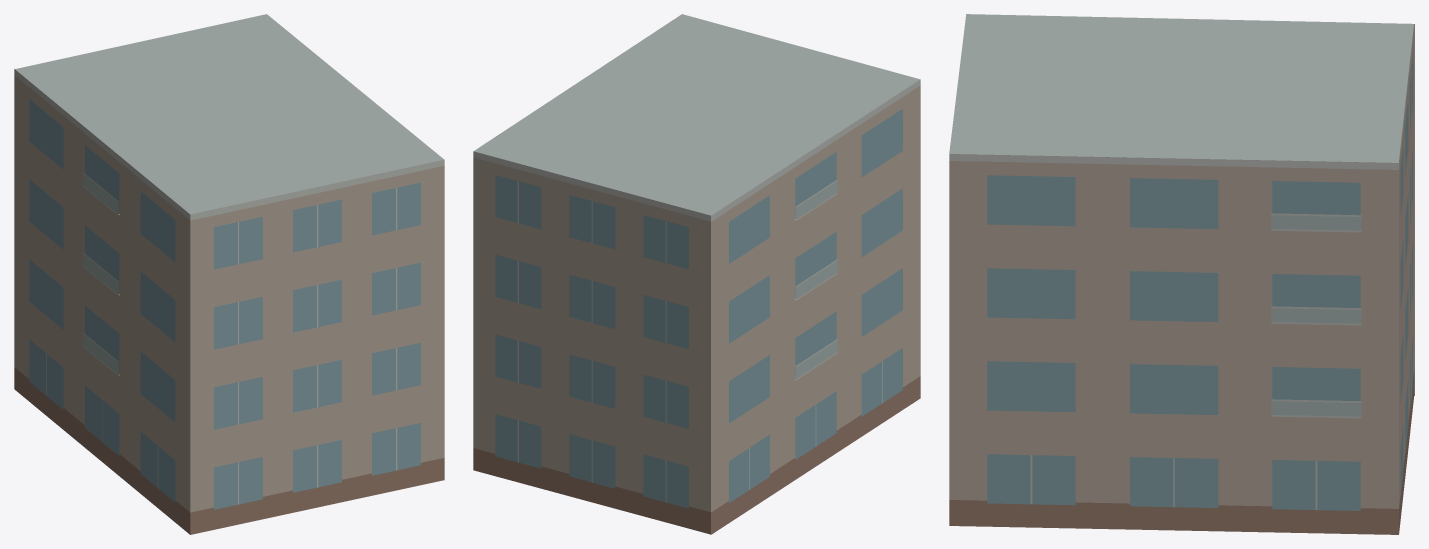
File: survey-upis-32707618.glb
The picture shows the model from 3 angles, left to right: view 1: azimuth 30°, elevation 25°; view 2: azimuth 150°, elevation 25°; view 3: azimuth 270°, elevation 25°; orthographic projection. The views are drawn at different scales.
Visible parts, largest first — view 1: survey-upis-32707618.tmp; view 2: survey-upis-32707618.tmp; view 3: survey-upis-32707618.tmp.
Part boxes in pixels (x1,y1,x2,y2): survey-upis-32707618.tmp: (14,14,444,534); survey-upis-32707618.tmp: (473,14,920,534); survey-upis-32707618.tmp: (949,14,1414,534).
Size of the model in its own units: 11.09 by 12.9 by 14.65.
